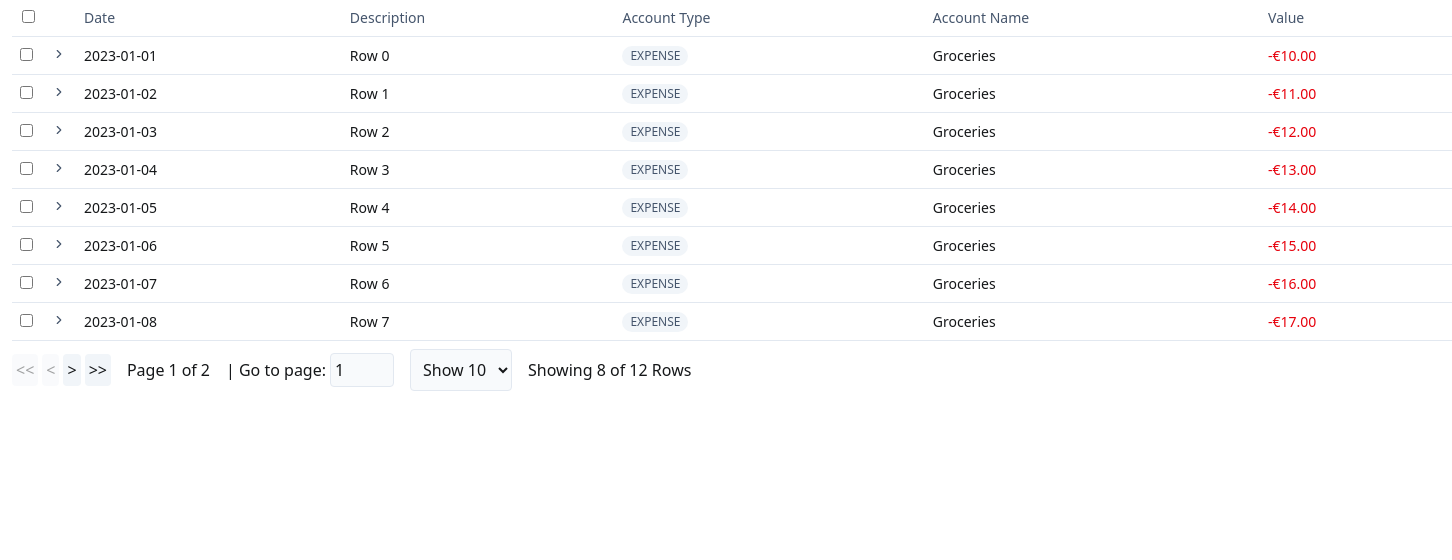
Test case: TransactTable › shows more rows when a larger page size is selected
This screenshot has width=1452, height=560.
Select "Show 20" in the dropdown at (461, 370), box top-left (410, 349), bottom-right (512, 391)
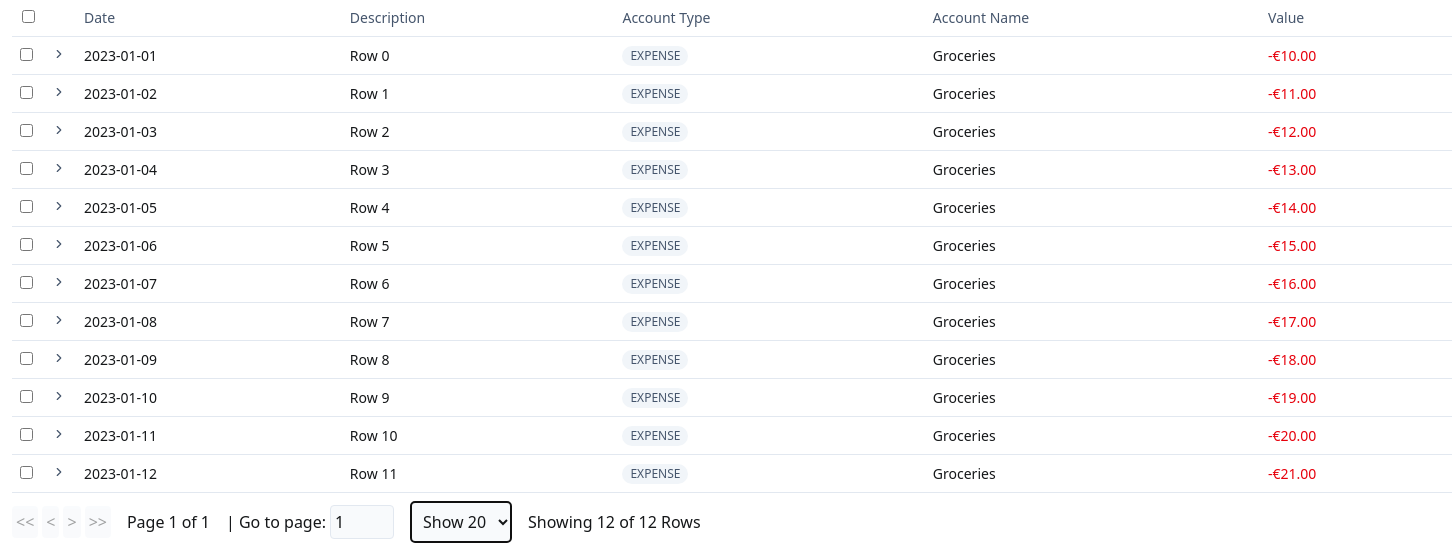
Expected: the text "Row 1" is shown, top-left (342, 74), bottom-right (614, 112)
Result: the text "Row 11" is shown at top-left (342, 454), bottom-right (614, 492)
